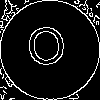O: (25, 25, 69, 75)
